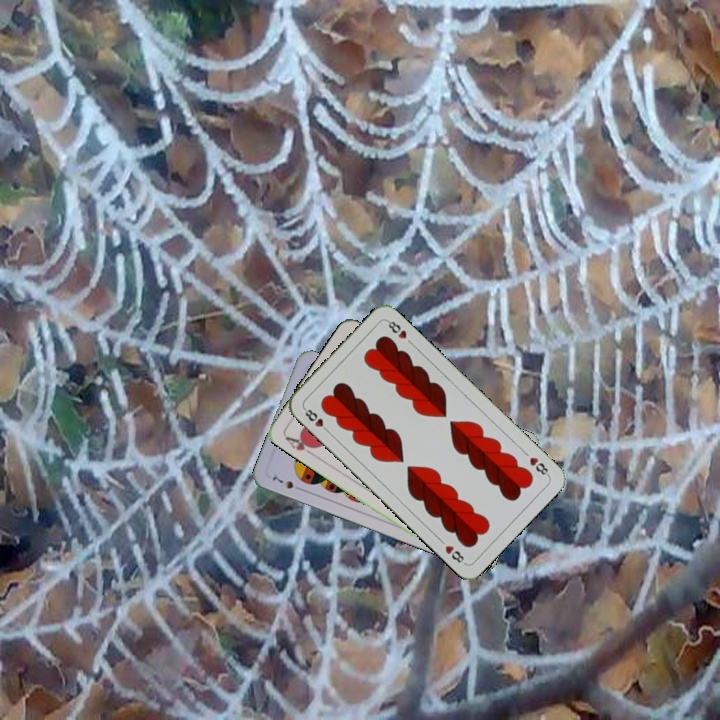H8: (300, 404, 332, 436), (526, 453, 552, 479)
HA: (281, 432, 319, 459)
S7: (268, 472, 305, 493)
